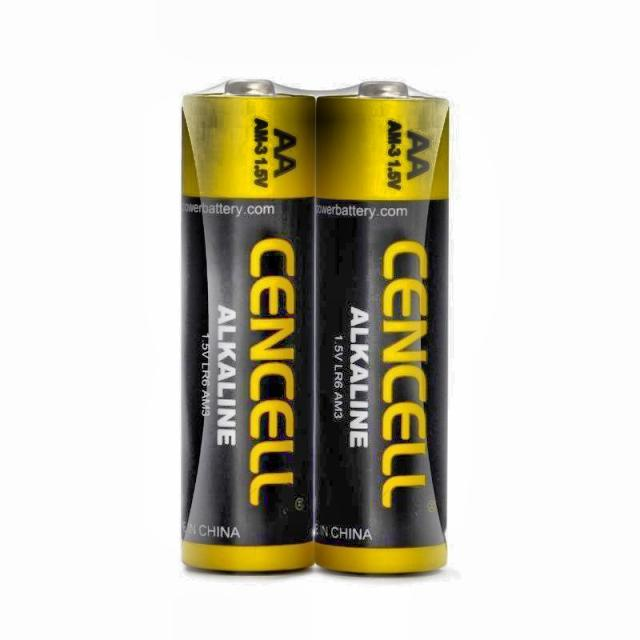Non-Valuable Waste - Batteries: (182, 80, 315, 571), (316, 84, 449, 572)
